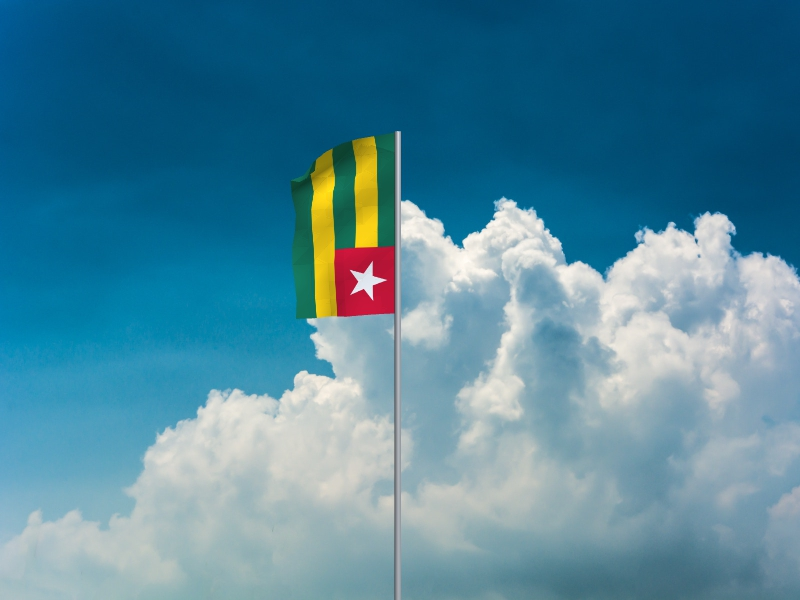tg: (290, 132, 394, 321)
